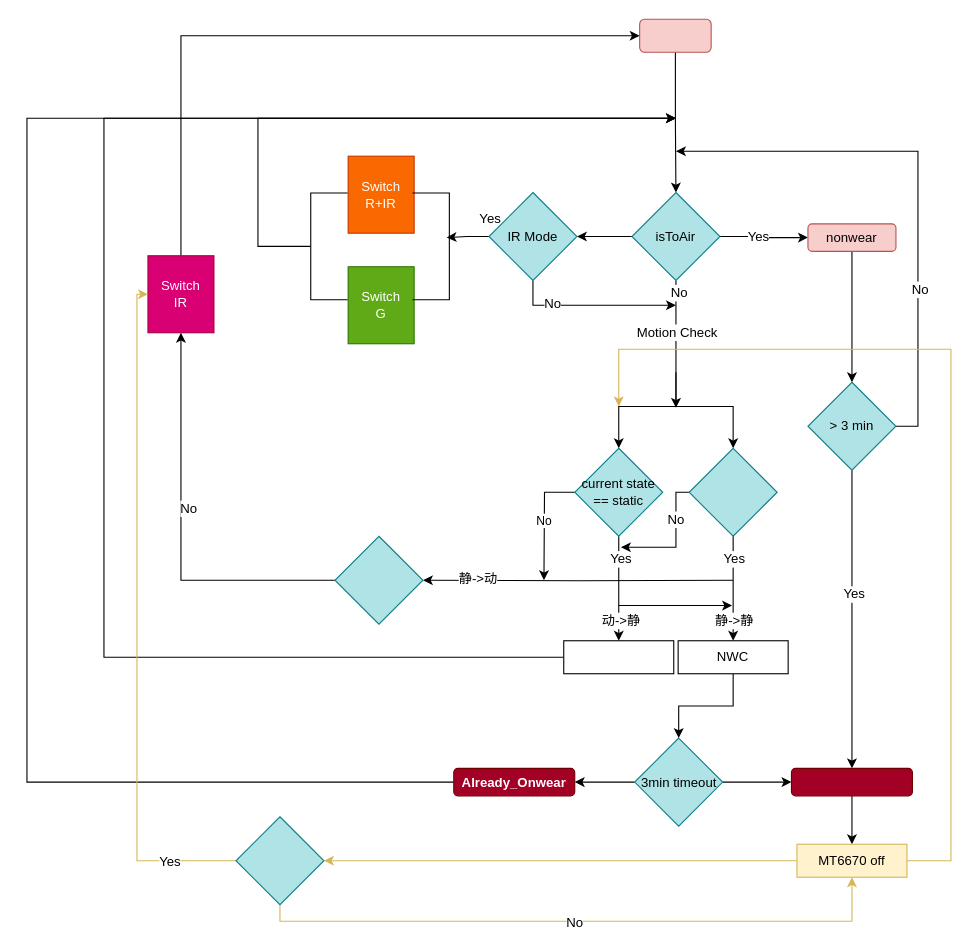
The diagram is 979 pixels wide and 949 high, and some of its shapes have lost their labels. The shapes that lost their labels are listed below. From the top down, each one's box as (x1, y1, x2, y2) in pixels, then its label:
(639, 18, 711, 52): onwear
(688, 447, 777, 536): last state == static
(334, 535, 423, 624): continue_hr?
(563, 640, 674, 674): NWC Init
(790, 767, 912, 796): Already_Nonwear
(235, 816, 324, 905): 抬腕亮屏
